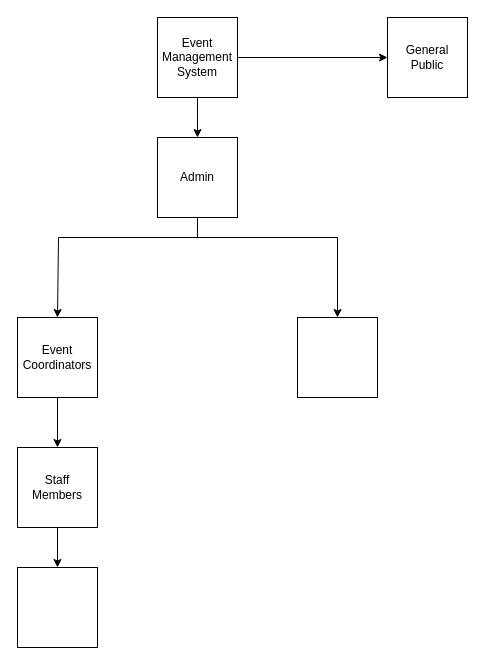
The diagram is 485 pixels wide and 665 high, and some of its shapes have lost their labels. Each missing label, with the centre of its shape:
"Faculty" belongs at (337,357).
"Students" belongs at (57,607).
